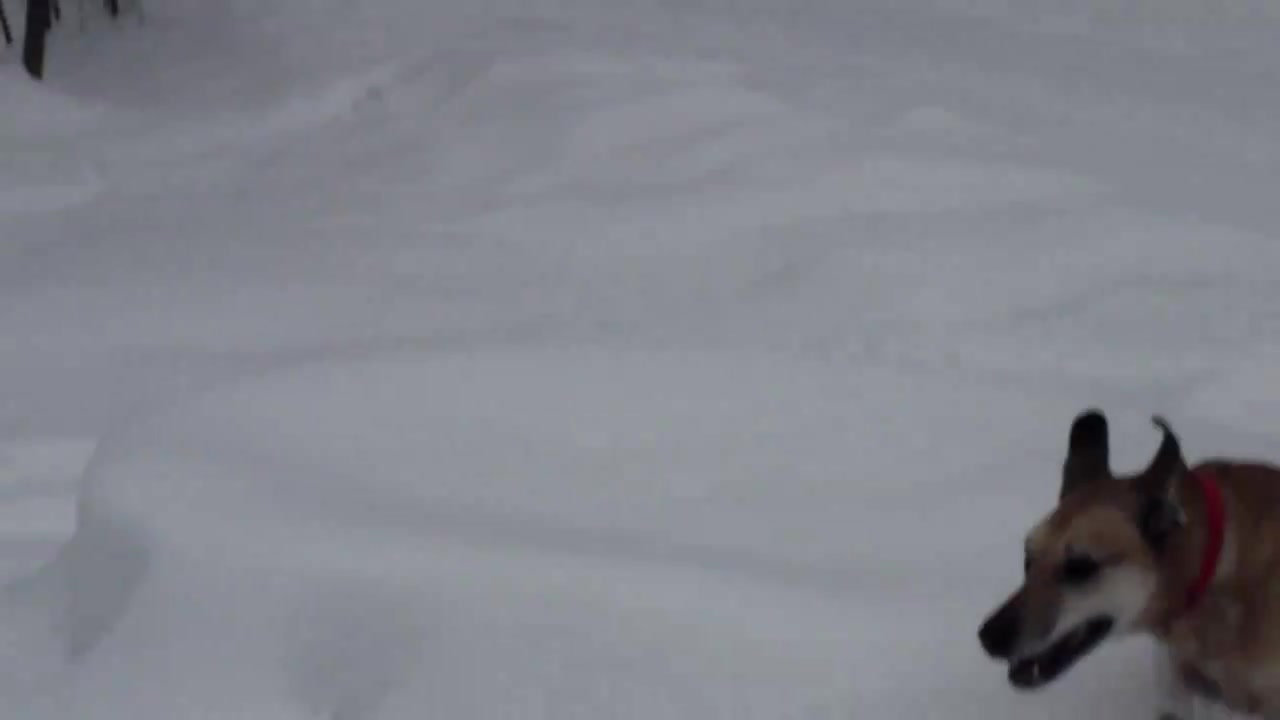dog: (976, 412, 1280, 718)
